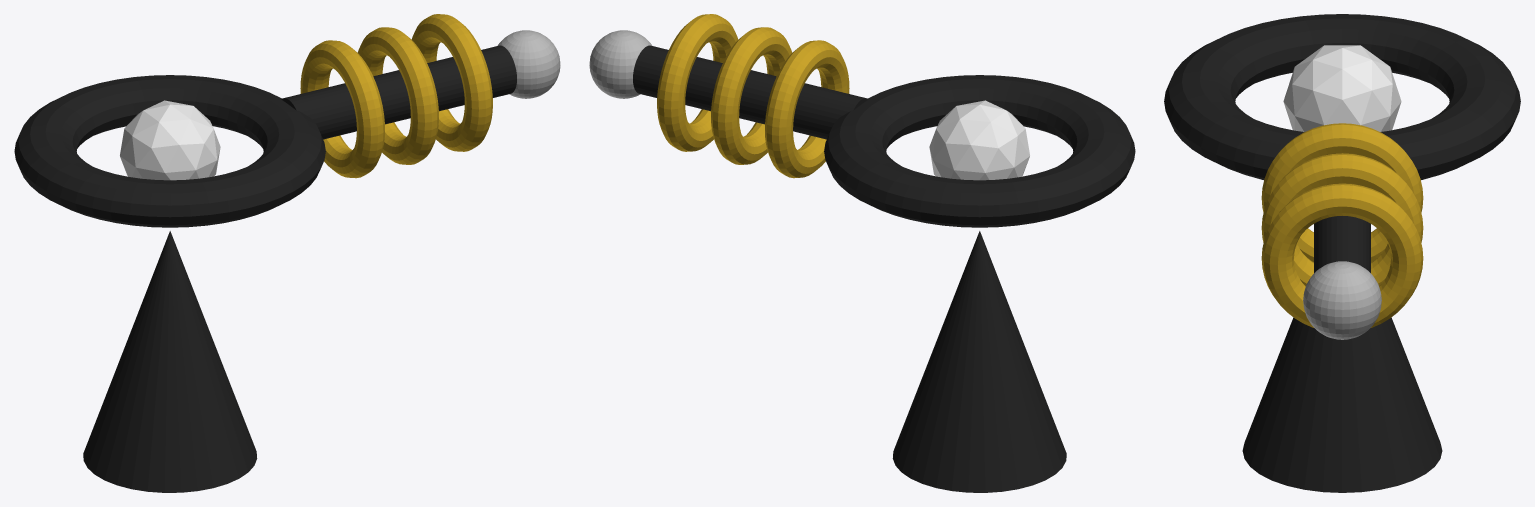
The model's file is BlasterTower.fbx.
The picture shows the model from 3 angles, left to right: view 1: azimuth 30°, elevation 25°; view 2: azimuth 150°, elevation 25°; view 3: azimuth 270°, elevation 25°; orthographic projection. The views are drawn at different scales.
Visible parts, largest first — view 1: Head, Base, GunBarrel, CoreBlaster, Silencer1, Silencer3, Silencer2, Muzzle; view 2: Head, Base, GunBarrel, CoreBlaster, Silencer1, Silencer3, Silencer2, Muzzle; view 3: Head, Base, Silencer3, CoreBlaster, Silencer2, Silencer1, Muzzle, GunBarrel.
Boxes of the visible parts, box(x1,y1,x2,y2) form: Head: box(14, 75, 325, 227); Base: box(83, 231, 257, 492); GunBarrel: box(281, 45, 516, 139); CoreBlaster: box(120, 100, 220, 180); Silencer1: box(300, 40, 384, 178); Silencer3: box(411, 14, 492, 151); Silencer2: box(357, 27, 438, 164); Muzzle: box(497, 30, 560, 98); Head: box(824, 75, 1135, 227); Base: box(892, 231, 1066, 492); GunBarrel: box(633, 45, 868, 139); CoreBlaster: box(929, 100, 1029, 180); Silencer1: box(765, 40, 849, 178); Silencer3: box(657, 14, 738, 151); Silencer2: box(711, 27, 792, 164); Muzzle: box(589, 30, 652, 98); Head: box(1164, 14, 1520, 179); Base: box(1242, 317, 1442, 492); Silencer3: box(1261, 183, 1423, 327); CoreBlaster: box(1283, 45, 1401, 131); Silencer2: box(1261, 153, 1423, 286); Silencer1: box(1261, 123, 1423, 262); Muzzle: box(1303, 261, 1381, 339); GunBarrel: box(1314, 216, 1370, 272).
Bounding box in the file's own units: 483 × 327 × 250.
